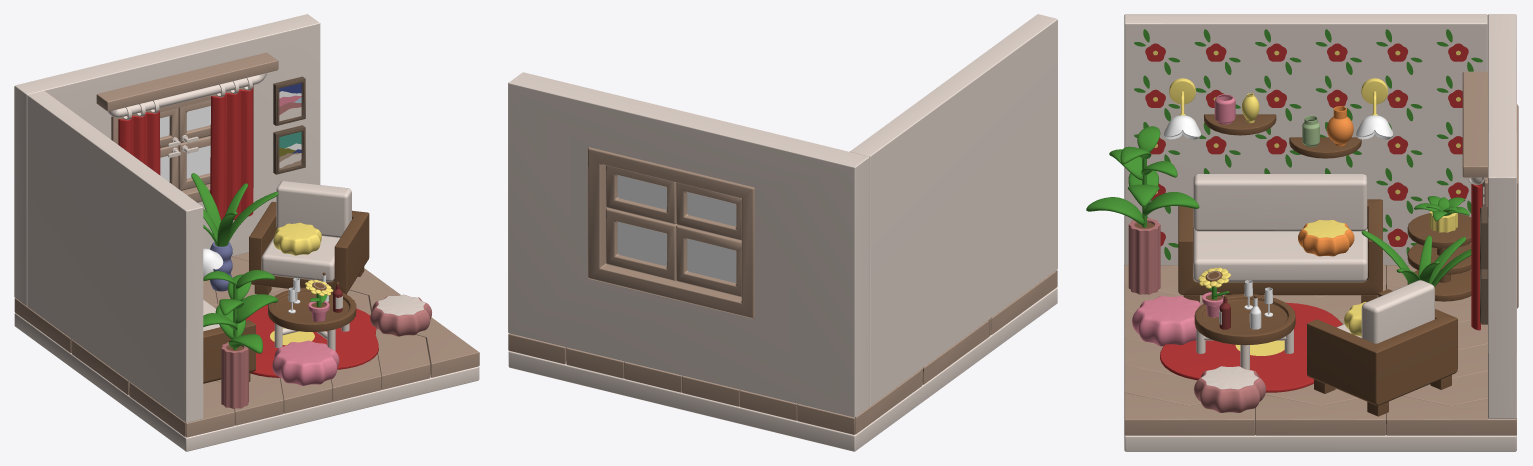
Rendered from Room_20.glb.
The picture shows the model from 3 angles, left to right: view 1: azimuth 30°, elevation 25°; view 2: azimuth 150°, elevation 25°; view 3: azimuth 270°, elevation 25°; orthographic projection. The views are drawn at different scales.
Visible parts, largest first — view 1: Room_20_Wall_2, Room_18_Wall_1, Room_18_Floor_2, Room_20_Curtains_1, Room_20_Armchair_1, Room_18_Floor_1, Room_20_Window_1, Room_20_Plant_1, Room_20_Carpet_1, Room_20_Table_1, Room_20_Plant_2, Room_20_Pillow_3 (+6 smaller); view 2: Room_18_Wall_1, Room_20_Wall_2, Room_20_Window_1, Room_18_Floor_2, Room_18_Floor_1; view 3: Room_20_Wall_2, Room_18_Floor_2, Room_20_Couch_1, Room_20_Armchair_1, Room_18_Wall_1, Room_18_Floor_1, Room_20_Plant_1, Room_20_Carpet_1, Room_20_Curtains_1, Room_20_Table_1, Room_20_Shelf_1, Room_20_Pillow_3 (+16 smaller).
Boxes of the visible parts, <box> form: Room_20_Wall_2: <box>27,91,203,422</box>; Room_18_Wall_1: <box>14,14,320,306</box>; Room_18_Floor_2: <box>14,252,479,437</box>; Room_20_Curtains_1: <box>96,52,278,220</box>; Room_20_Armchair_1: <box>249,181,369,294</box>; Room_18_Floor_1: <box>14,313,479,451</box>; Room_20_Window_1: <box>111,85,253,202</box>; Room_20_Plant_1: <box>203,270,278,408</box>; Room_20_Carpet_1: <box>246,304,378,377</box>; Room_20_Table_1: <box>268,287,356,350</box>; Room_20_Plant_2: <box>191,173,278,291</box>; Room_20_Pillow_3: <box>272,340,339,385</box>; Room_18_Wall_1: <box>508,72,869,417</box>; Room_20_Wall_2: <box>850,14,1057,406</box>; Room_20_Window_1: <box>587,147,754,318</box>; Room_18_Floor_2: <box>508,270,1057,434</box>; Room_18_Floor_1: <box>508,287,1057,451</box>; Room_20_Wall_2: <box>1124,14,1487,265</box>; Room_18_Floor_2: <box>1124,264,1516,435</box>; Room_20_Couch_1: <box>1178,174,1382,303</box>; Room_20_Armchair_1: <box>1307,280,1457,416</box>; Room_18_Wall_1: <box>1488,14,1516,419</box>; Room_18_Floor_1: <box>1124,435,1516,451</box>; Room_20_Plant_1: <box>1086,126,1199,294</box>; Room_20_Carpet_1: <box>1160,302,1342,392</box>; Room_20_Curtains_1: <box>1462,71,1487,330</box>; Room_20_Table_1: <box>1194,294,1295,369</box>; Room_20_Shelf_1: <box>1407,213,1471,301</box>; Room_20_Pillow_3: <box>1132,296,1200,346</box>.
Size of the model in its own units: 5.31 by 4.17 by 5.93.
Materials: 3 (1 with a texture image).
